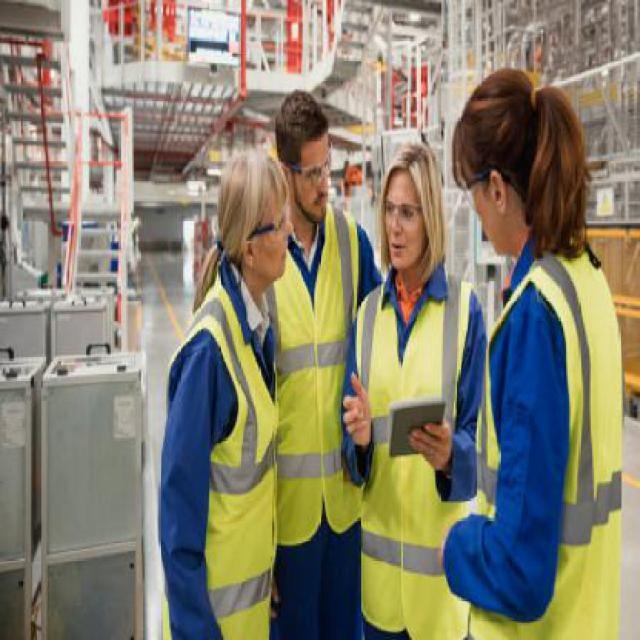glass: (378, 189, 424, 240), (293, 147, 341, 192)
head: (449, 63, 541, 223), (215, 143, 290, 266), (373, 140, 447, 257), (274, 87, 343, 193)
person: (438, 55, 624, 626), (143, 149, 294, 627), (346, 134, 483, 640), (267, 83, 370, 640)
vest: (467, 241, 630, 632), (346, 273, 483, 638), (150, 274, 287, 634), (281, 207, 369, 550)
